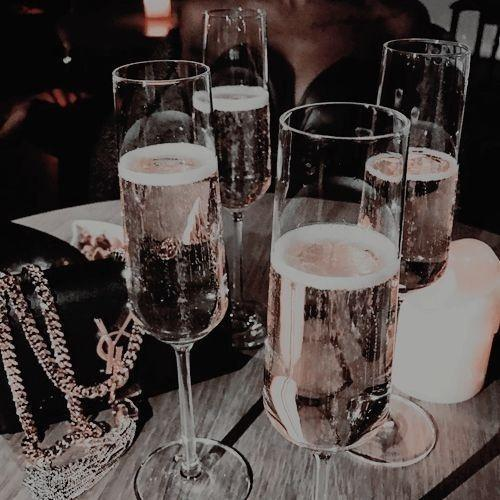glass-wine: (110, 60, 248, 500), (257, 98, 411, 483), (346, 30, 483, 416), (175, 1, 289, 348)
